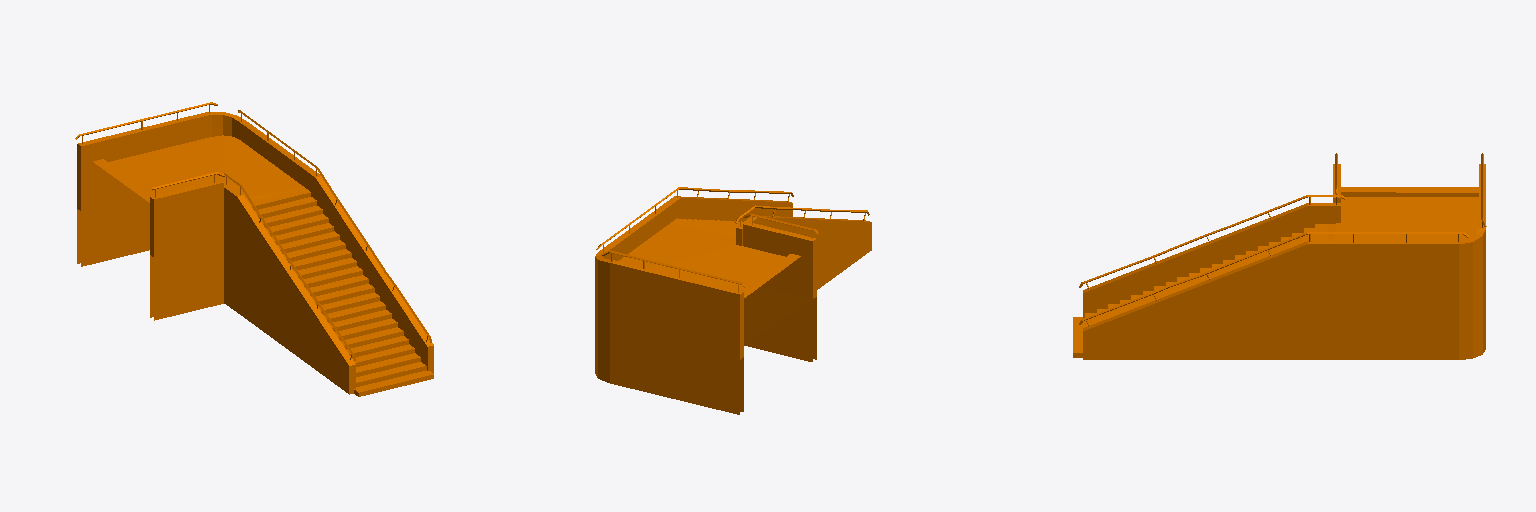
3 views of the same model, side by side, from view 1: azimuth 30°, elevation 25°; view 2: azimuth 150°, elevation 25°; view 3: azimuth 270°, elevation 25° (orthographic).
Parts seen in each view (by area): view 1: stairs:null_12; view 2: stairs:null_12; view 3: stairs:null_12.
Boxes of the visible parts, <box> form: stairs:null_12: <box>75,102,433,396</box>; stairs:null_12: <box>595,187,871,414</box>; stairs:null_12: <box>1073,153,1486,359</box>.
Bounding box in the file's own units: 5.6 × 4.42 × 12.59.